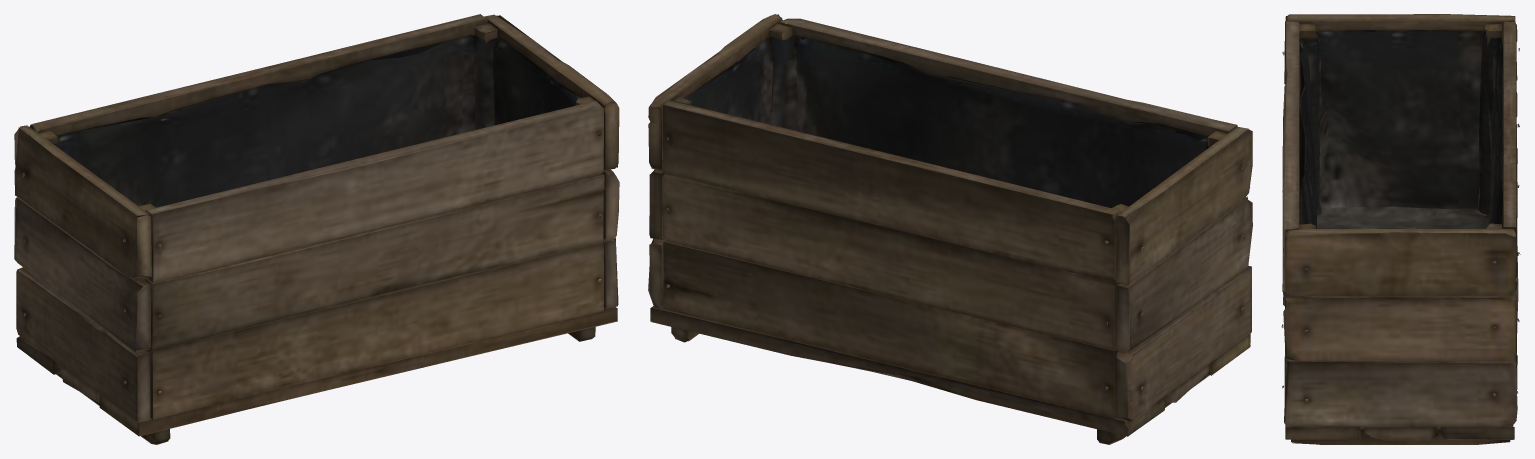
Rendered from planter_box_01_1k.gltf.
The picture shows the model from 3 angles, left to right: view 1: azimuth 30°, elevation 25°; view 2: azimuth 150°, elevation 25°; view 3: azimuth 270°, elevation 25°; orthographic projection. The views are drawn at different scales.
Parts seen in each view (by area): view 1: planter_box_01_LOD0; view 2: planter_box_01_LOD0; view 3: planter_box_01_LOD0.
Part boxes in pixels (box(x1,y1,x2,y2)): planter_box_01_LOD0: box(14, 14, 619, 444); planter_box_01_LOD0: box(648, 14, 1252, 444); planter_box_01_LOD0: box(1281, 14, 1520, 444).
Size of what is drawn, in the model's own units: 0.916 by 0.4264 by 0.4176.
Materials: 1 (1 with a texture image).
